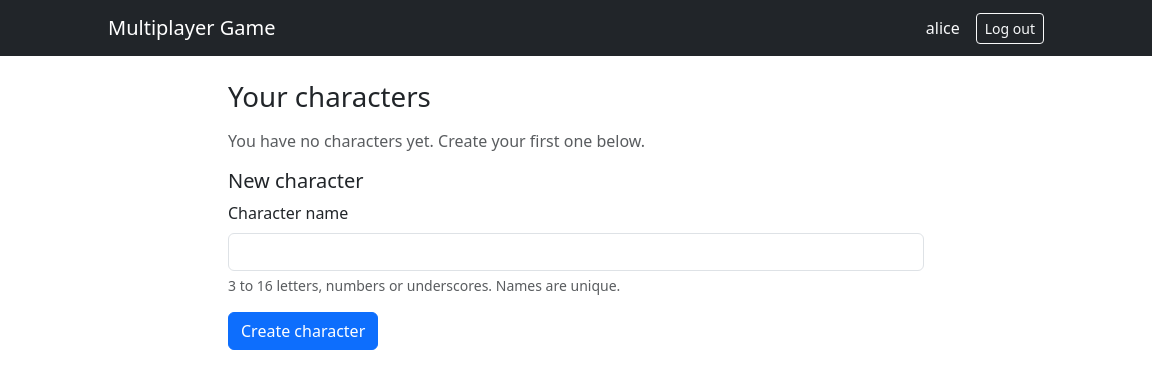
Test: an invalid name is refused before anything is sent
Type "ab" into the field labelled "Character name" at (576, 252), box [228, 233, 924, 271]
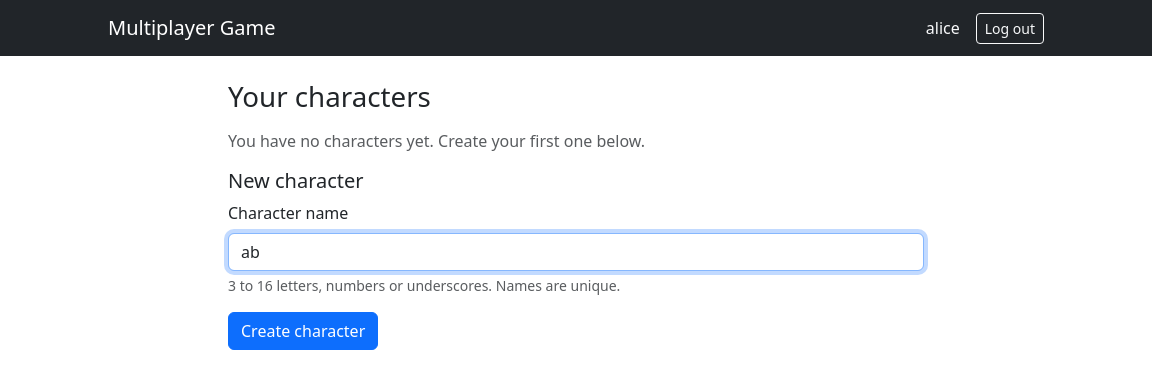
Click the button "Create character" at (303, 331), box [228, 312, 378, 350]
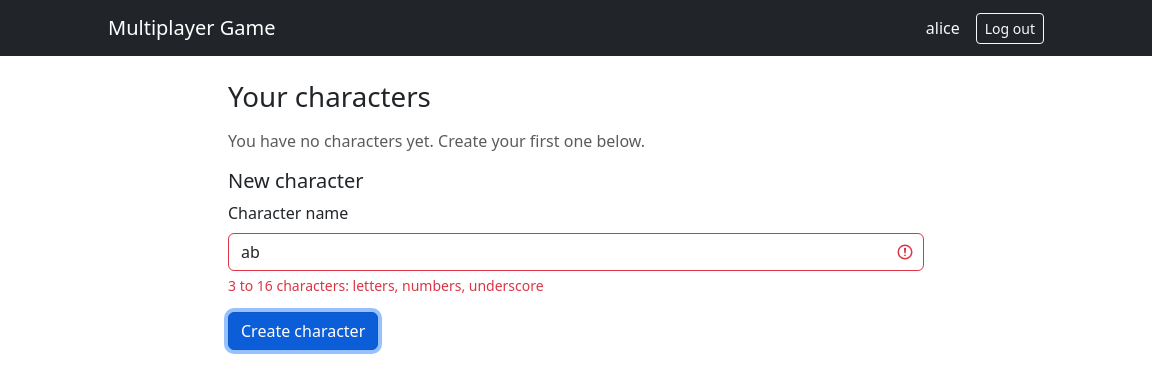
Expected: the text "3 to 16 characters: letters, numbers, underscore" is shown, [228, 276, 544, 295]
